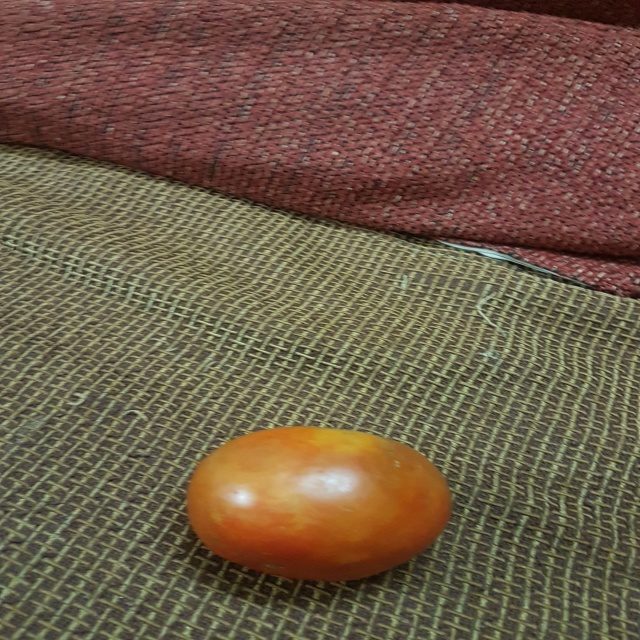tomato: (183, 420, 459, 579)
